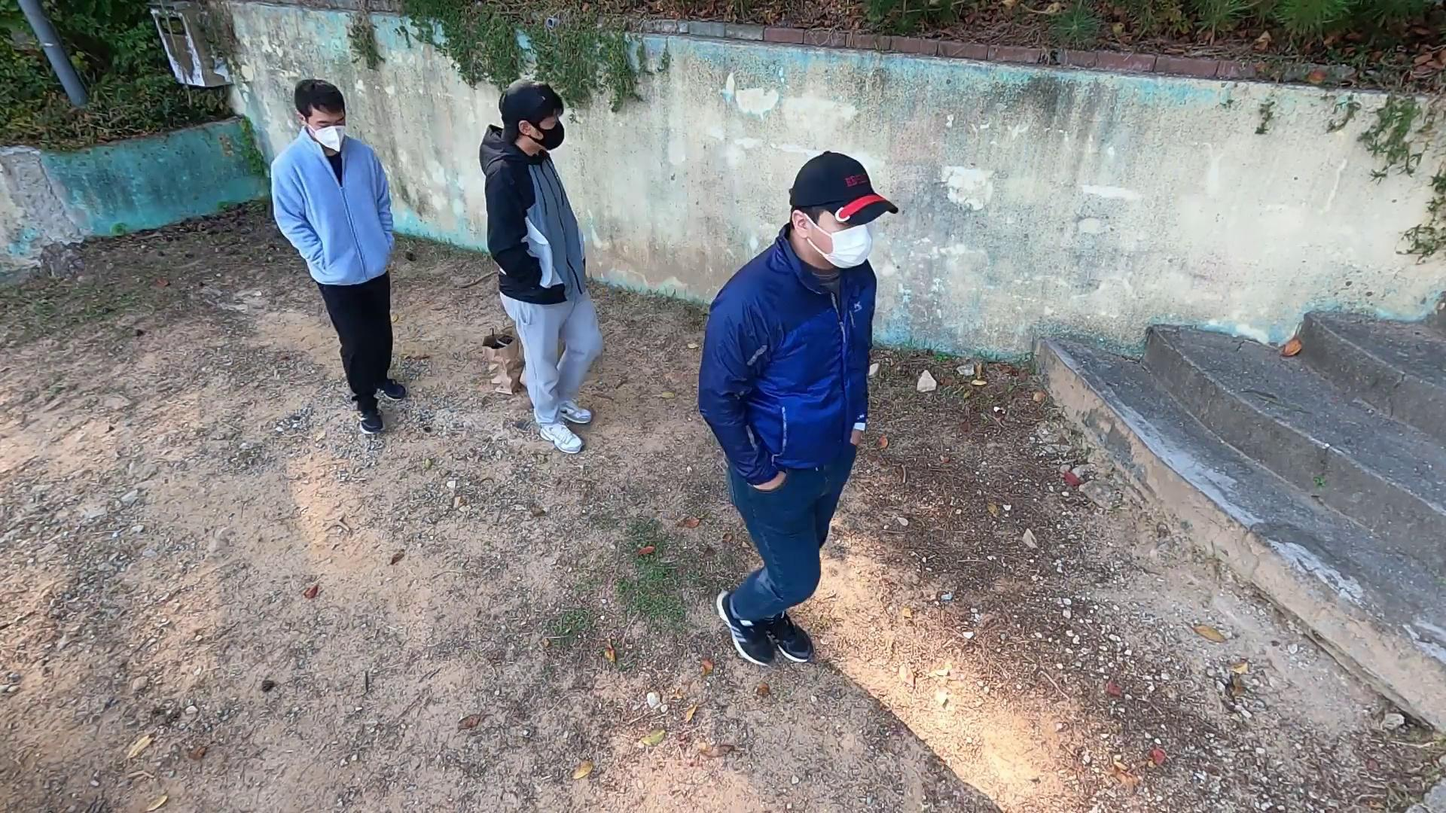person: (697, 146, 904, 673), (262, 70, 427, 443), (479, 69, 613, 465)
trash: (478, 325, 524, 397)
